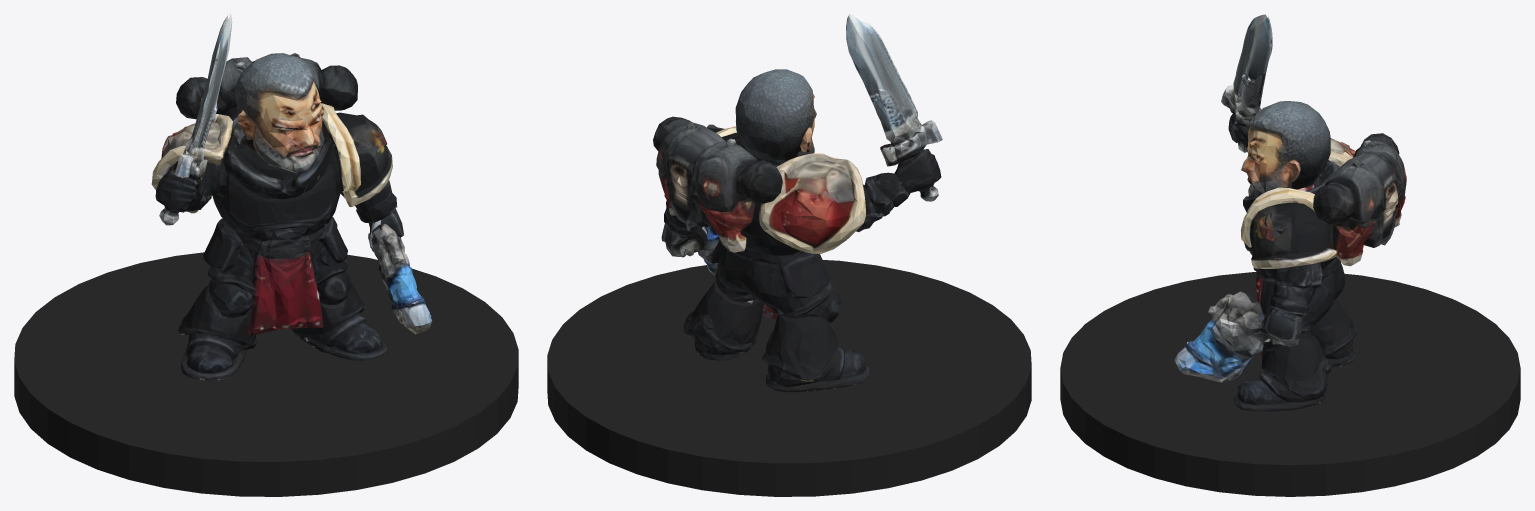
The model's file is marshal-siguard.glb.
3 views of the same model, side by side, from view 1: azimuth 30°, elevation 25°; view 2: azimuth 150°, elevation 25°; view 3: azimuth 270°, elevation 25° (orthographic). The views are drawn at different scales.
Parts seen in each view (by area): view 1: base, figure; view 2: base, figure; view 3: base, figure.
Part boxes in pixels (x1,y1,x2,y2): base: [14, 252, 518, 496]; figure: [151, 14, 431, 380]; base: [547, 260, 1031, 496]; figure: [653, 14, 942, 392]; base: [1060, 272, 1520, 496]; figure: [1174, 14, 1406, 411].
Size of the model in its own units: 1.57 by 1.37 by 1.57.
Materials: 2 (1 with a texture image).
